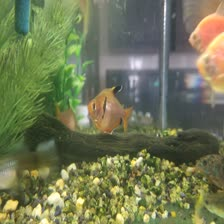Kiros: (193, 147, 223, 192)
Transparente: (81, 82, 146, 137)
